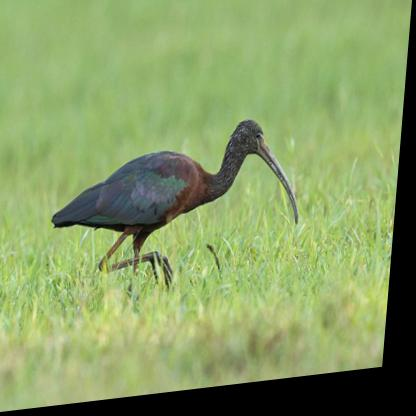Burung: (50, 120, 312, 310)
